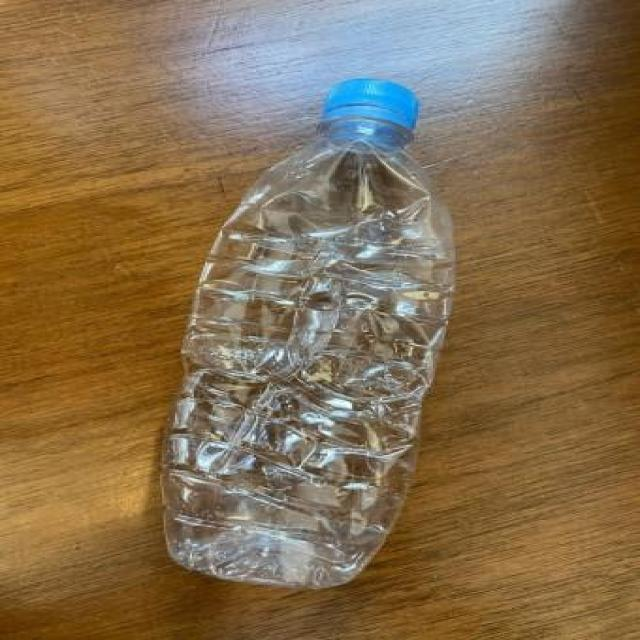bottle: (160, 78, 456, 589)
